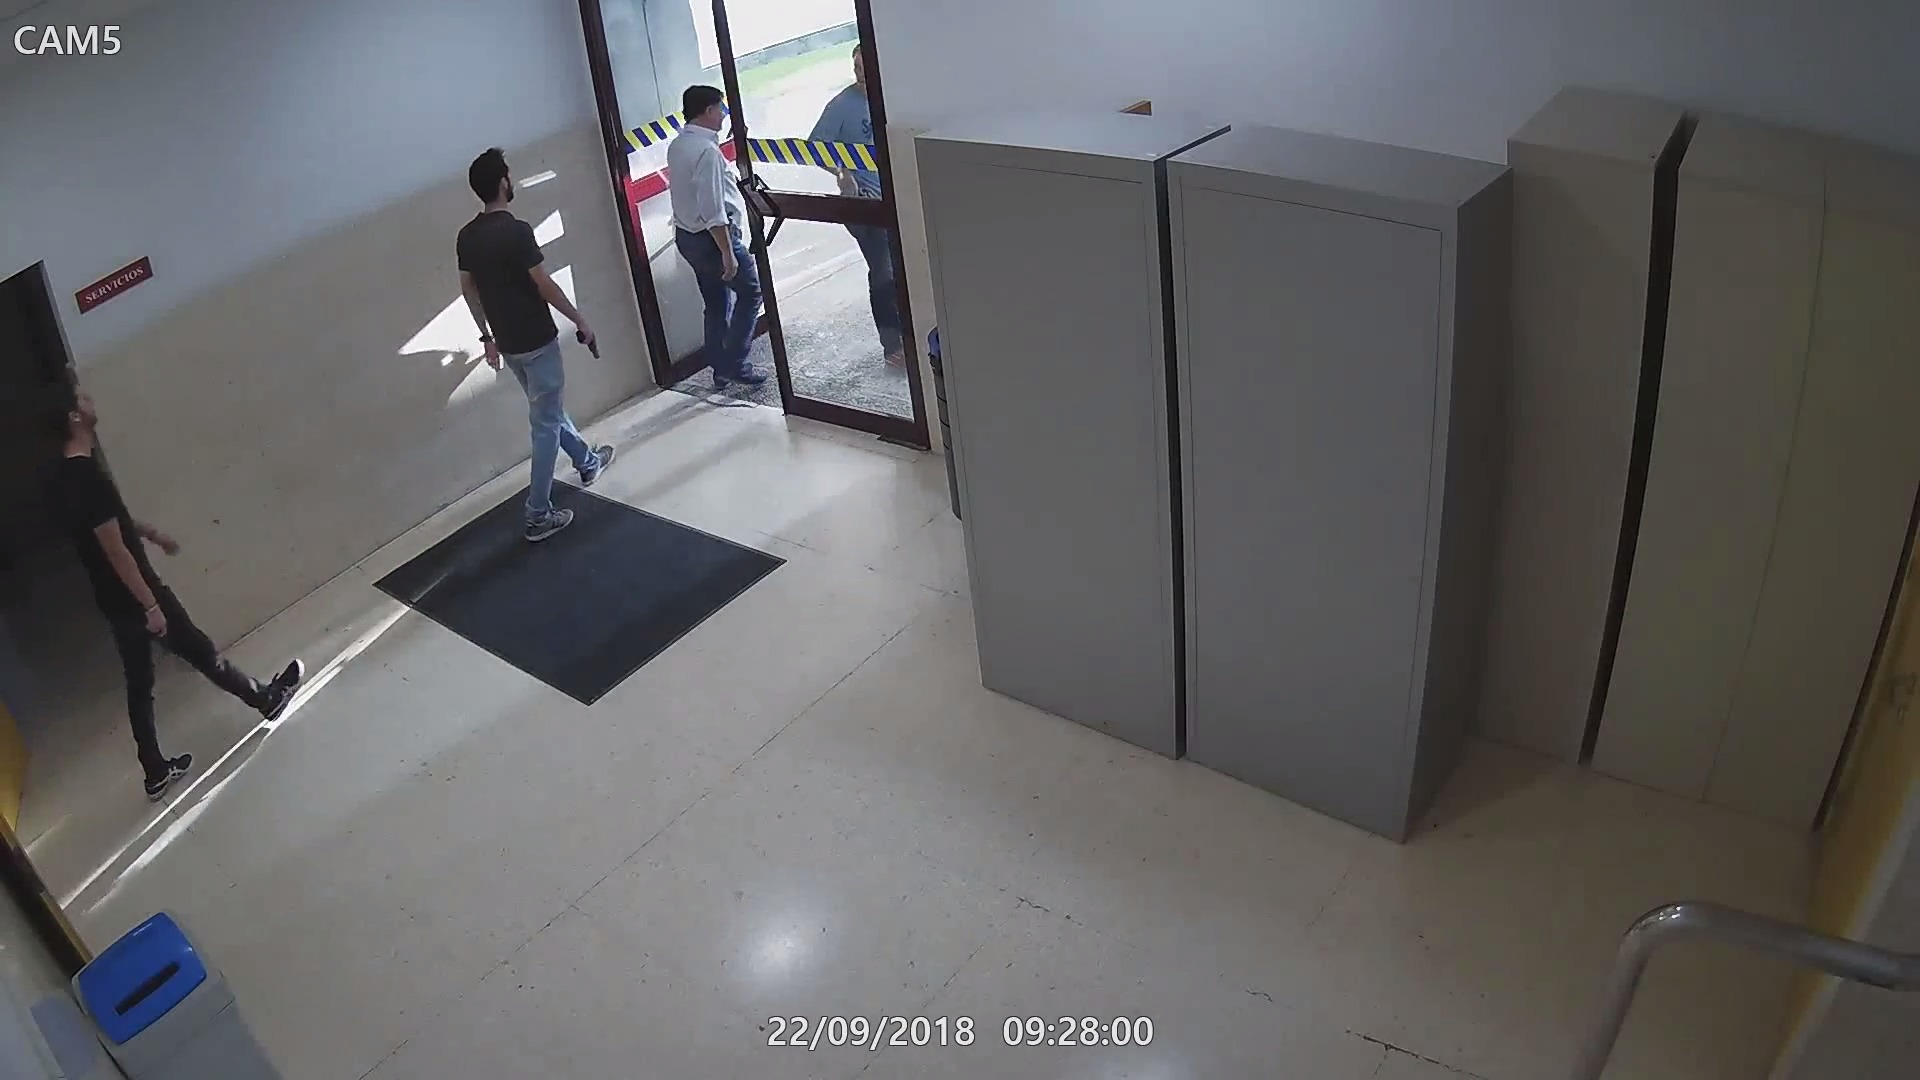Handgun: (137, 603, 178, 659), (571, 324, 603, 360)
